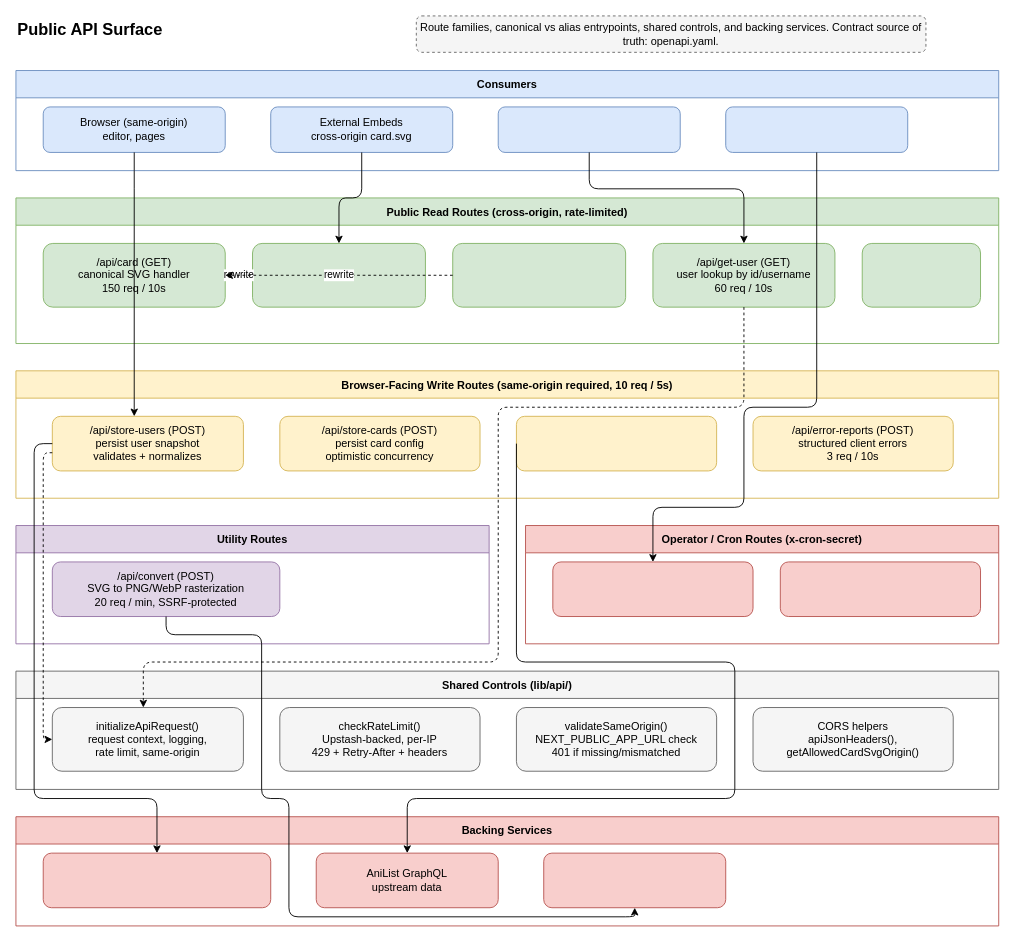
Some shapes in this 1015 by 942 pixel diagram are drawn without their labels. Each missing label, with the centre of its shape:
/api/anilist (POST) allowlisted AniList proxy GetUserId, GetUserStats: (x=616, y=443)
/api/card.svg compatibility alias (rewrite to /api/card): (x=539, y=275)
/api/cron (POST) stale user refresh cleanup after 3x 404: (x=652, y=589)
/api/cron/analytics-reporting GET: read reports POST: generate report: (x=880, y=589)
/api/get-cards (GET) stored card config reads 60 req / 10s: (x=921, y=275)
/card.svg pretty public alias (rewrite to /api/card): (x=338, y=275)
Cron / Operator x-cron-secret: (x=816, y=129)
Public API Consumers cross-origin reads: (x=588, y=129)
sharp (local) SVG rasterization PNG/WebP output: (x=634, y=880)
Upstash Redis user records, card configs, SVG cache, rate limit state: (x=156, y=880)
